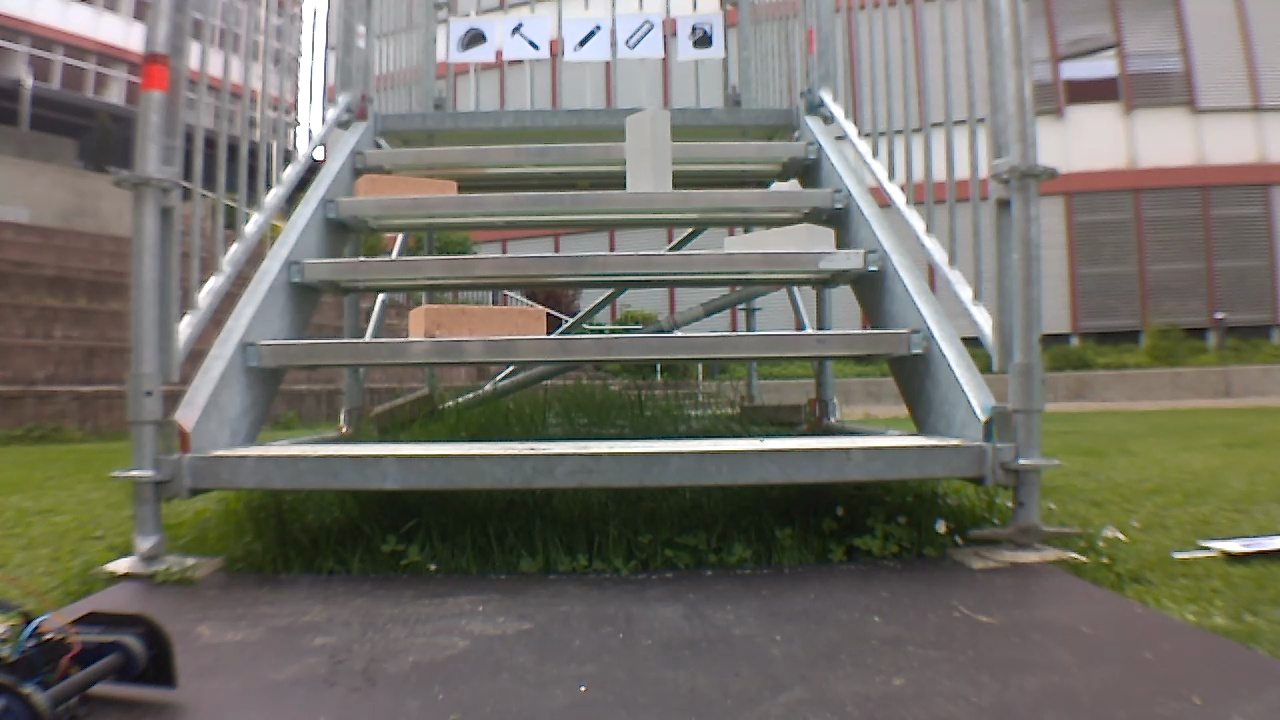brick: (408, 304, 545, 338), (626, 108, 670, 190), (725, 225, 834, 248), (356, 175, 455, 197)
bucket: (685, 18, 718, 52)
edge: (187, 444, 989, 489), (242, 328, 924, 361), (289, 247, 890, 276), (326, 189, 846, 211), (352, 142, 820, 162), (378, 107, 802, 126)
hammer: (508, 21, 543, 56)
pencil: (568, 19, 606, 54)
ruler: (622, 15, 655, 53)
stairs: (122, 2, 1052, 561)
steps: (181, 101, 1003, 498)
taco: (453, 21, 490, 57)
